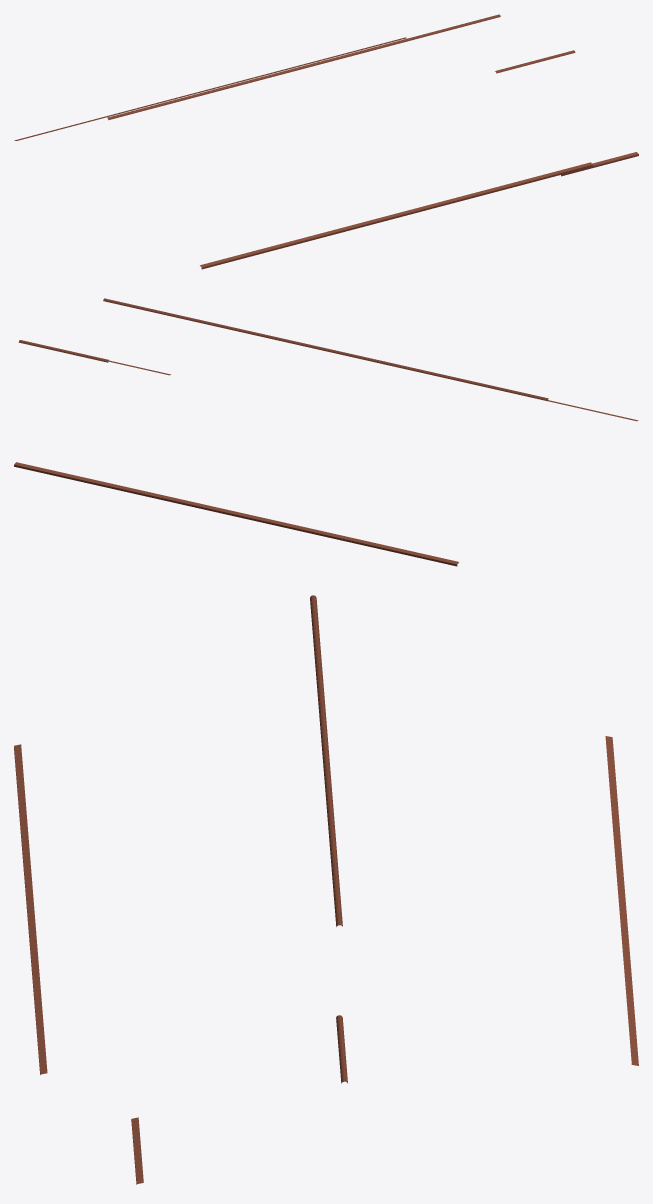
The picture shows the model from 3 angles, top to bottom: view 1: azimuth 30°, elevation 25°; view 2: azimuth 150°, elevation 25°; view 3: azimuth 270°, elevation 25°; orthographic projection. The views are drawn at different scales.
Visible parts, largest first — view 1: detail; view 2: detail; view 3: detail.
Part boxes in pixels (left/top/right/bottom): detail: left=14, top=14, right=638, bottom=269; detail: left=14, top=298, right=638, bottom=566; detail: left=14, top=595, right=638, bottom=1184.
Size of the model in its own units: 42.16 by 9.83 by 27.92.
